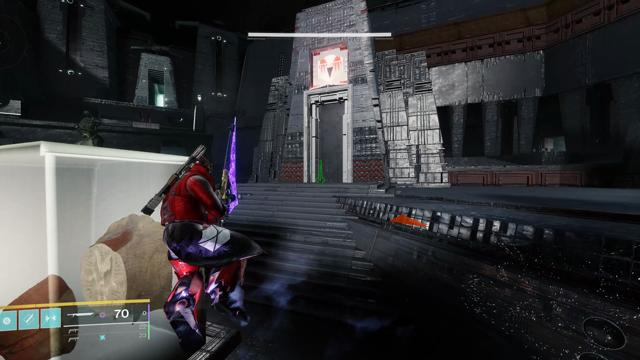give: (318, 55, 343, 81)
